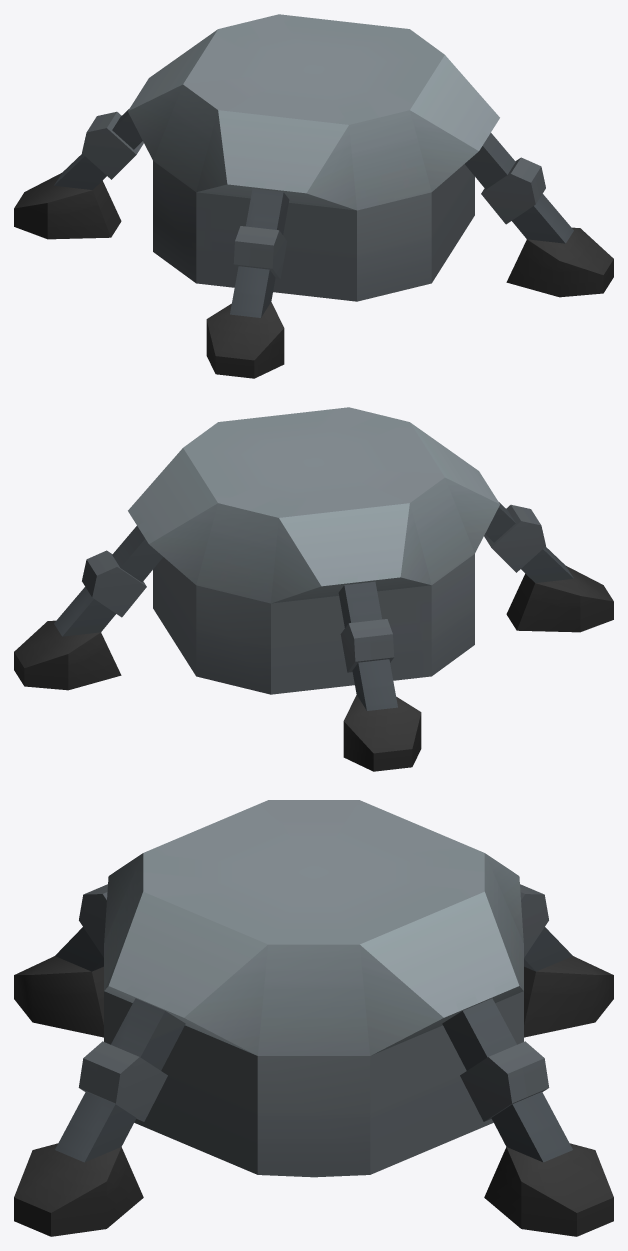
File: windturbine_low.glb
3 renders of one model, top to bottom at view 1: azimuth 30°, elevation 25°; view 2: azimuth 150°, elevation 25°; view 3: azimuth 270°, elevation 25°, orthographic. The views are drawn at different scales.
Visible parts, largest first — view 1: windturbine_low_Cylinder.2723; view 2: windturbine_low_Cylinder.2723; view 3: windturbine_low_Cylinder.2723.
Part boxes in pixels (<box>): windturbine_low_Cylinder.2723: <box>14,14,613,378</box>; windturbine_low_Cylinder.2723: <box>14,407,613,771</box>; windturbine_low_Cylinder.2723: <box>14,800,613,1236</box>.
Size of the model in its own units: 1.14 by 0.5 by 1.14.
Materials: 1 (1 with a texture image).
